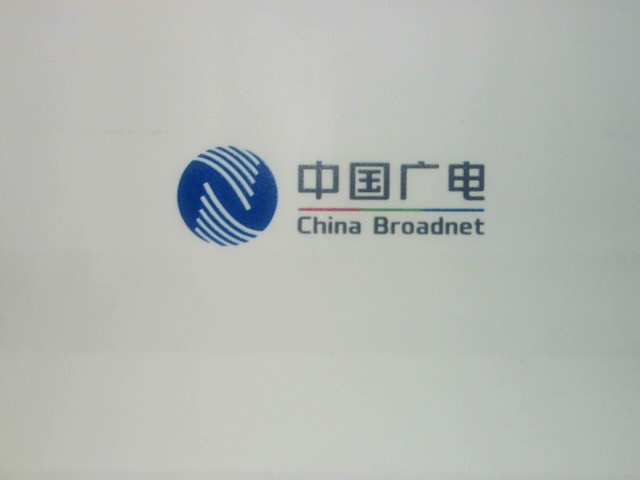AW_ChinaBroadNet: (140, 107, 526, 252)
